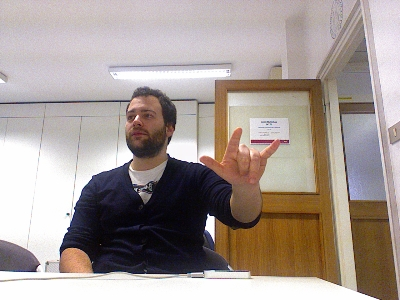我爱你: (197, 126, 281, 187)
